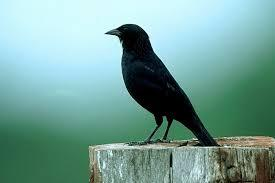grauna: (103, 22, 219, 148)
